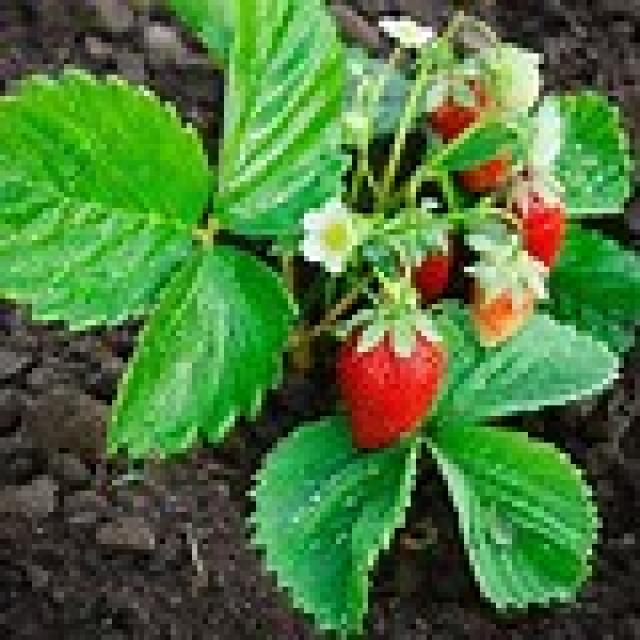strawberry: (336, 305, 440, 446)
